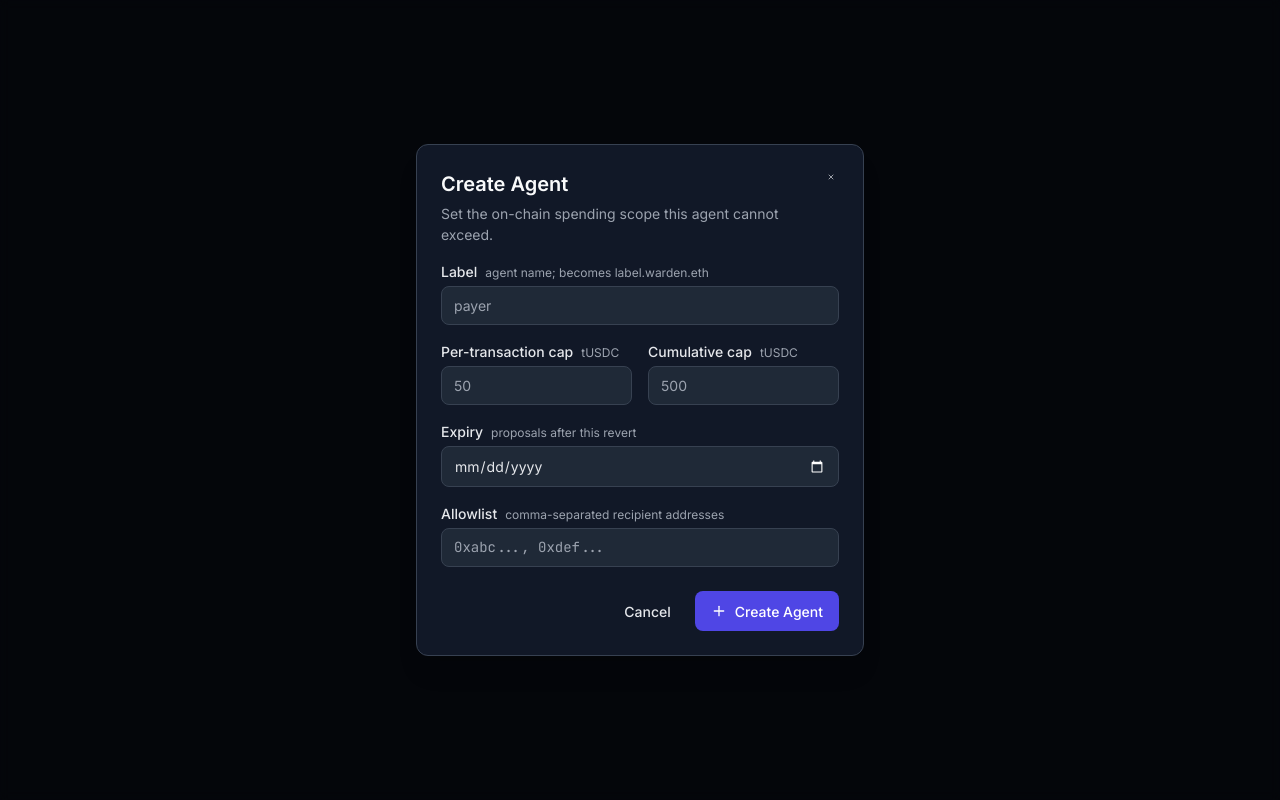
Test: CreateAgentDialog › blocks submit and shows validation when required fields are empty
Click the button "Create Agent" at (767, 611), box [695,591,839,631]
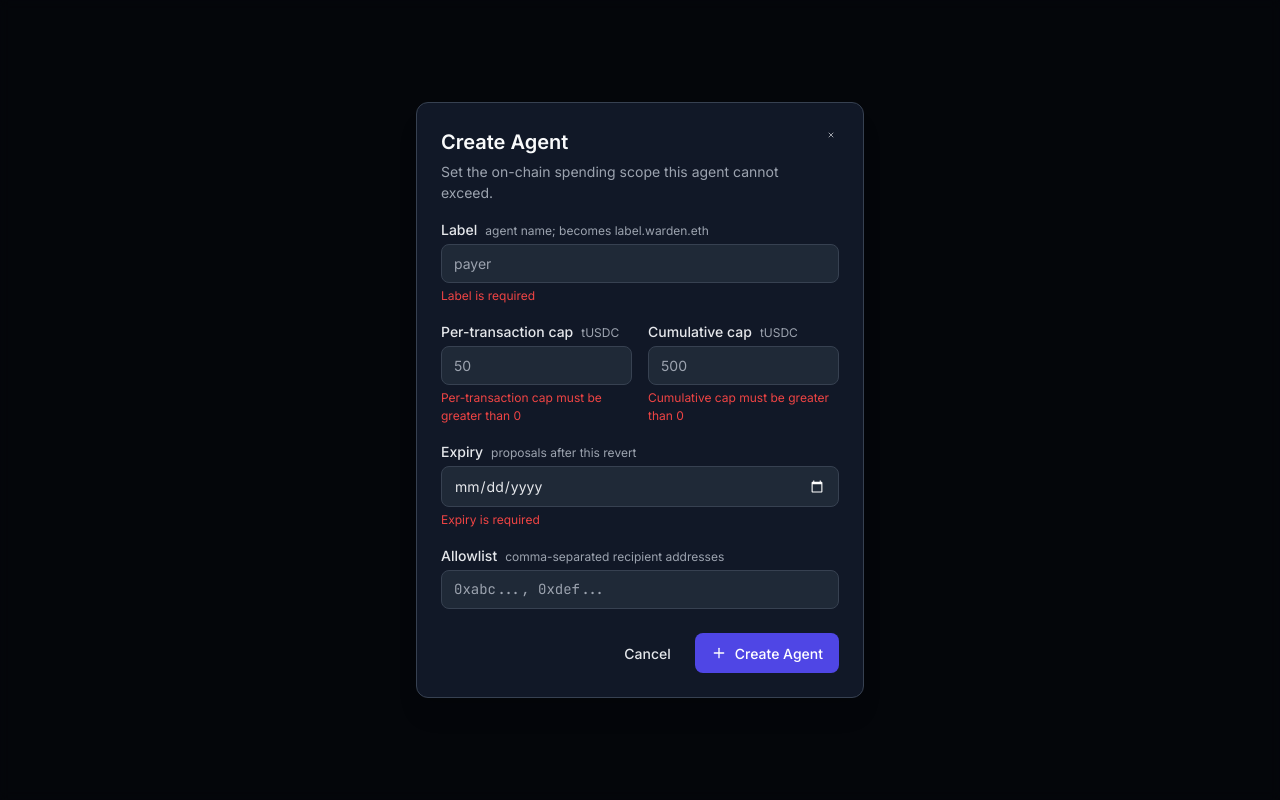
Now the text "Label is required" is shown, box [441,288,535,303]
